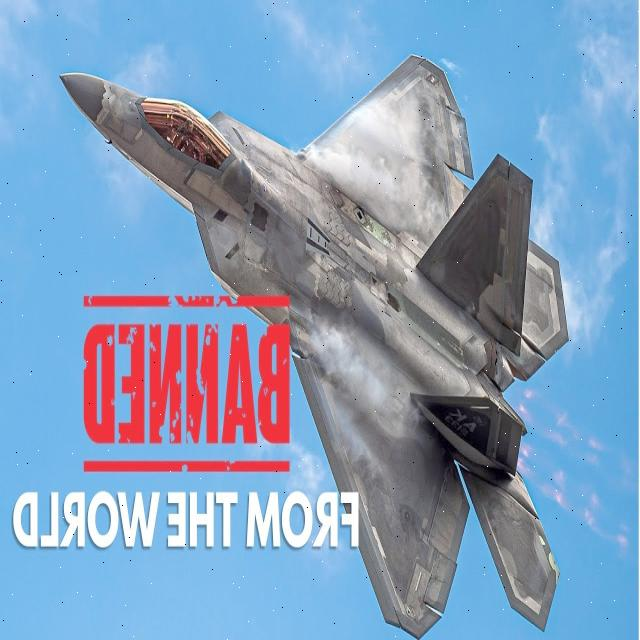F22: (43, 29, 600, 640)
